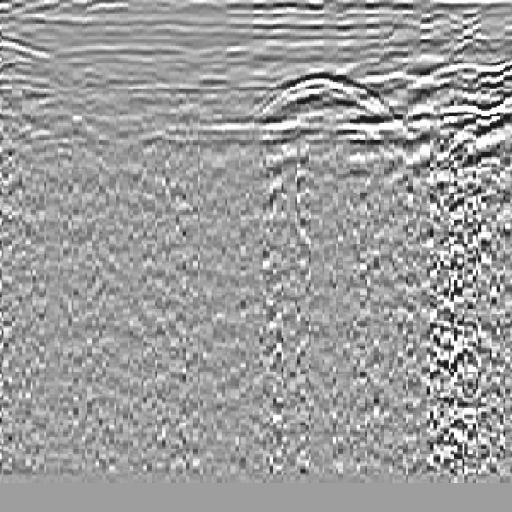metalic: (248, 68, 412, 133)
